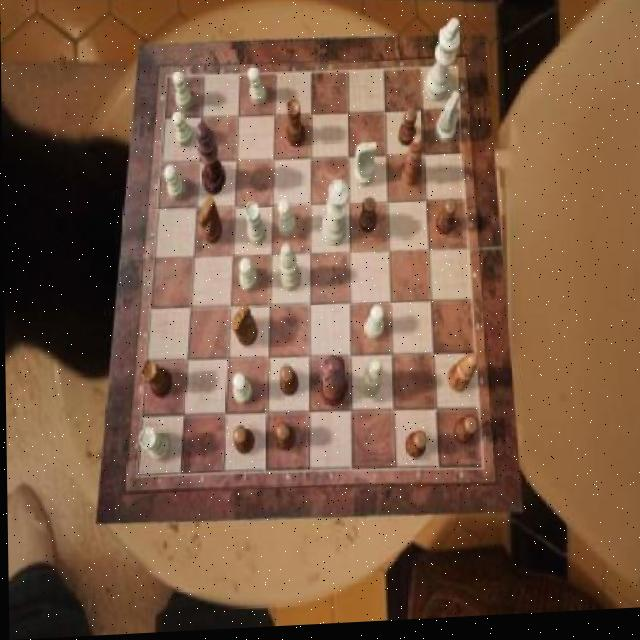bishop: (399, 140, 424, 193), (444, 358, 476, 397)
black-bishop: (195, 123, 225, 198)
black-king: (229, 305, 257, 350), (196, 199, 221, 247)
black-knight: (434, 203, 456, 242), (398, 112, 417, 151), (451, 421, 476, 450), (403, 435, 426, 464), (230, 429, 253, 457), (357, 202, 375, 237), (279, 368, 297, 401), (274, 425, 294, 454)
black-pawn: (318, 358, 346, 412)
black-queen: (140, 359, 171, 400), (284, 102, 305, 151)
black-rook: (278, 247, 301, 295), (357, 363, 380, 402)
white-bishop: (423, 23, 460, 107)
white-king: (434, 97, 459, 149), (353, 144, 378, 191)
white-knight: (170, 111, 193, 149), (172, 72, 192, 115), (163, 167, 184, 203), (363, 309, 383, 345), (277, 200, 295, 239), (248, 69, 266, 108), (230, 375, 251, 408), (238, 260, 256, 295)
white-pawn: (321, 183, 349, 250)
white-queen: (137, 429, 170, 464), (243, 203, 266, 249)
